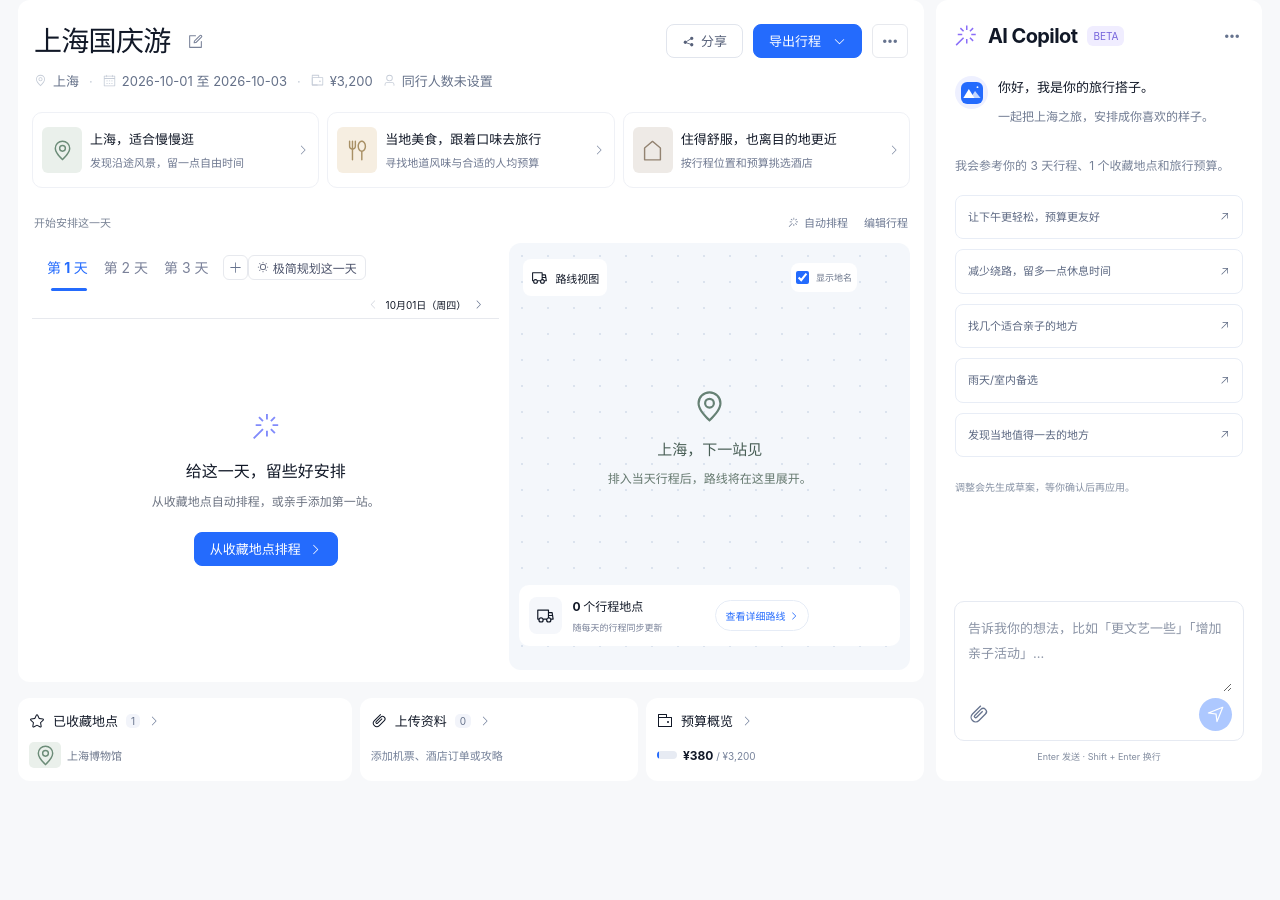
TripDetail › shows a short daily itinerary directly and keeps saved-place previews accessible
Click the tab with id "day-2026-10-02": (126, 267) [96,243,156,291]
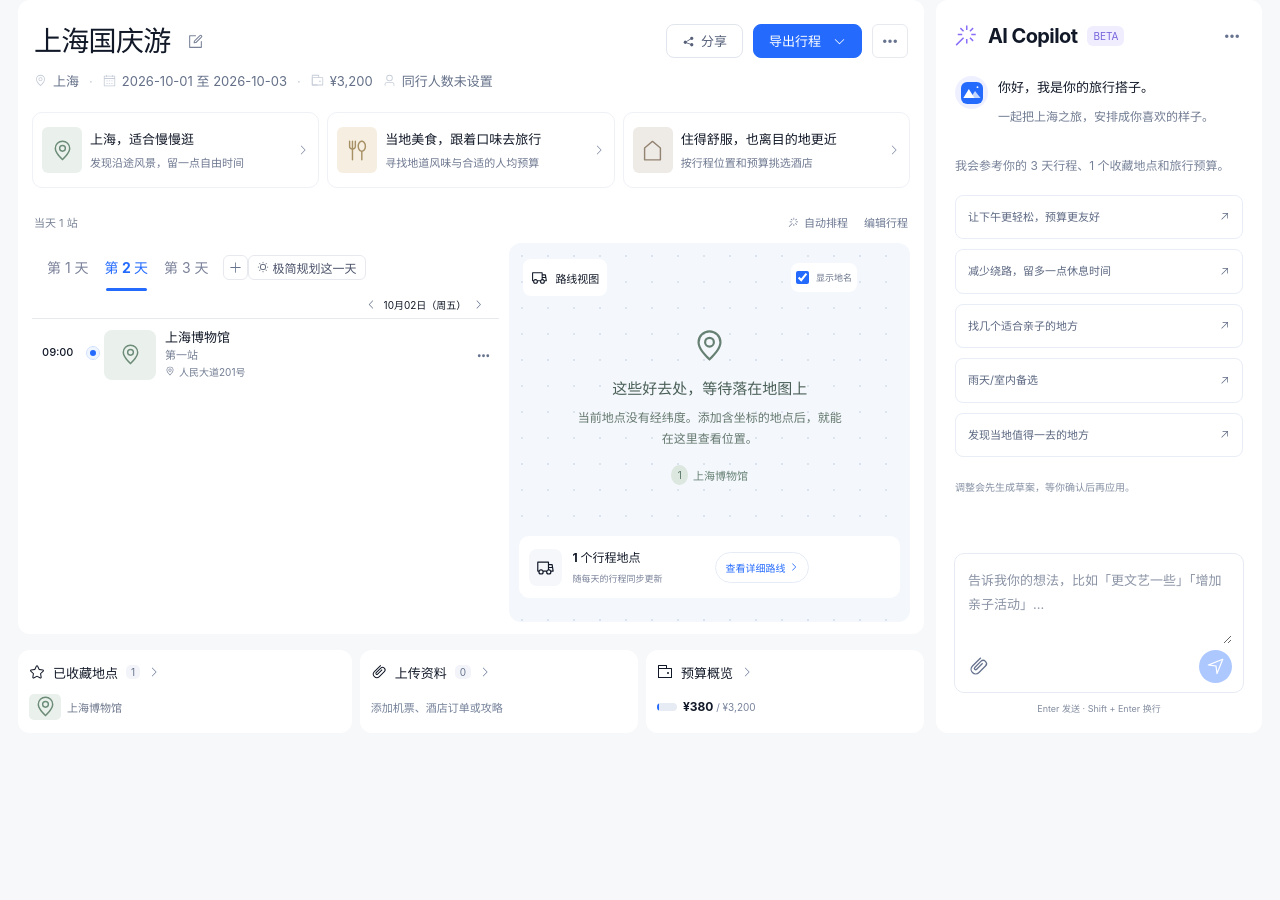
Expected: the element with class "utility-places" reads "上海博物馆", [67,701,122,715]
Expected: the number of list items with class "itinerary-row" is 1, [42,324,489,386]
Expected: the list item with class "itinerary-row" shows "上海博物馆", [104,324,468,386]
